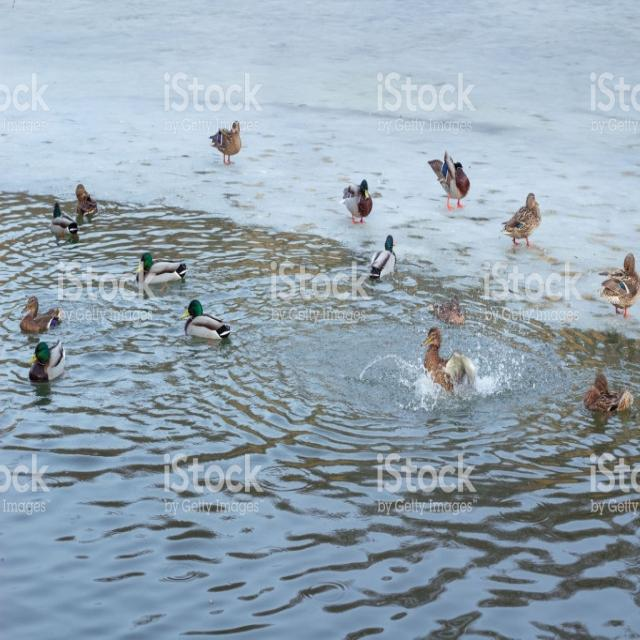bird: (419, 325, 473, 400), (596, 253, 640, 320), (425, 152, 475, 210), (501, 192, 545, 252), (128, 255, 186, 296), (179, 300, 234, 342), (584, 371, 632, 417), (20, 296, 64, 339), (208, 117, 243, 168), (365, 233, 399, 285), (344, 179, 379, 227), (27, 344, 64, 386), (45, 202, 79, 237)
